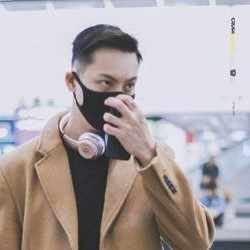mask: (65, 68, 137, 132)
